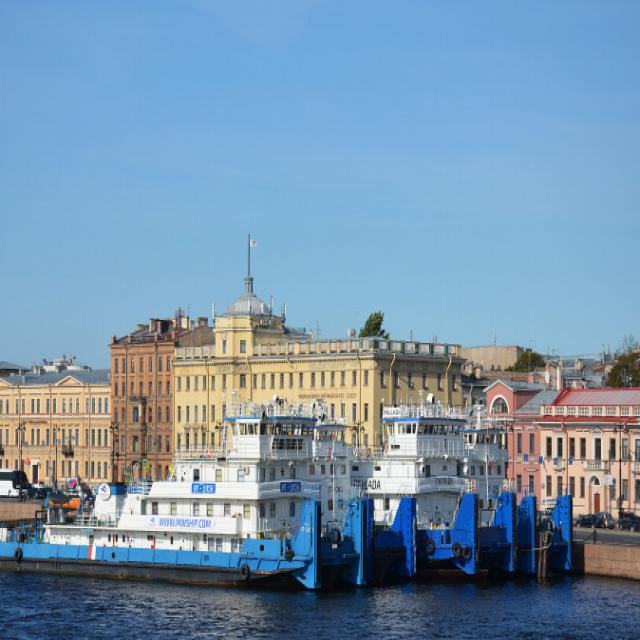tugboat: (1, 397, 377, 601)
